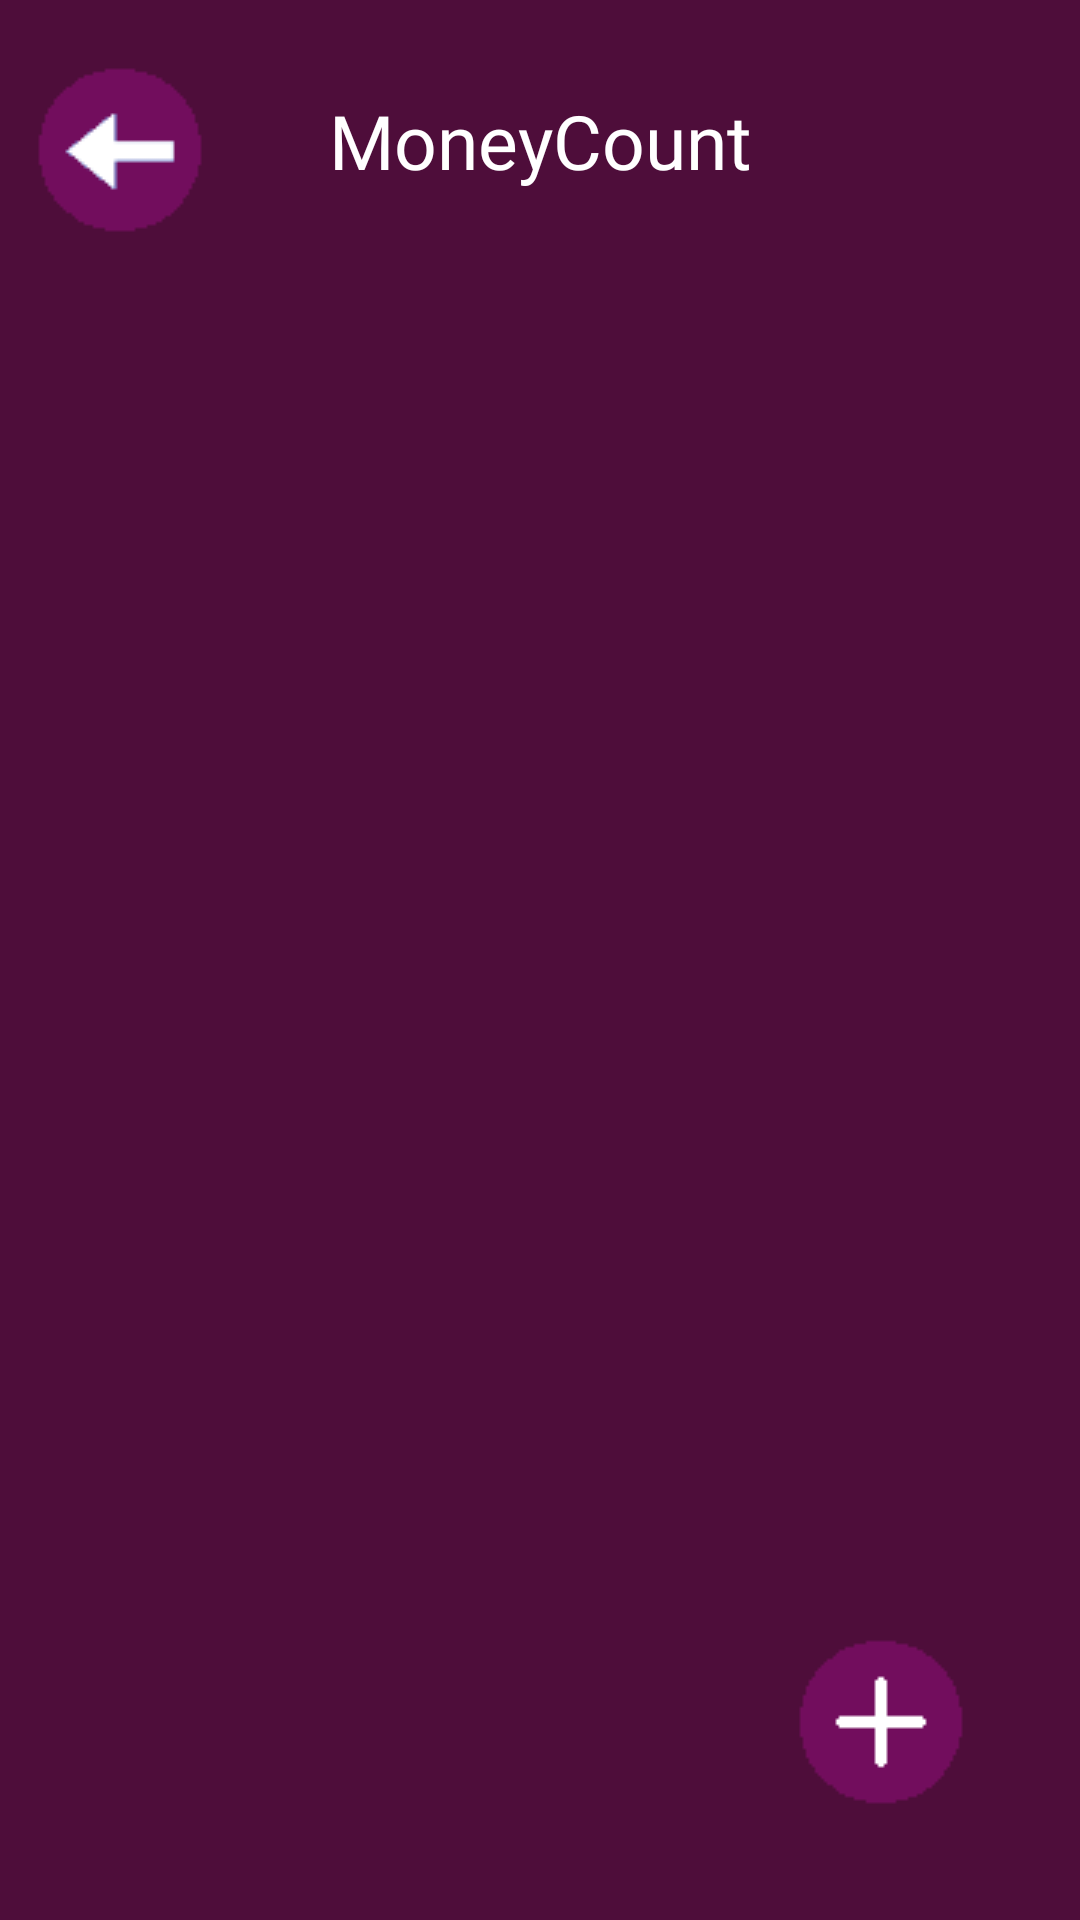

Where to tap for icons on this 1080x1920 app screen, as point (x, y):
Bouton d'ajout: point (881, 1722)
Bouton retour: point (120, 150)
